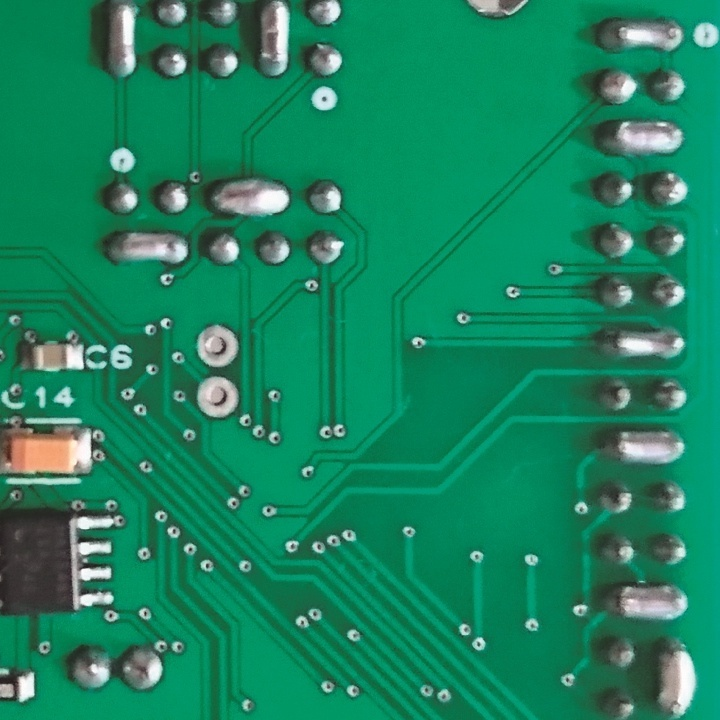F: (193, 373, 238, 423), (193, 322, 237, 369)
P: (102, 224, 189, 272), (207, 175, 296, 220), (601, 578, 692, 620), (597, 426, 689, 467), (653, 638, 699, 720), (595, 119, 687, 158), (596, 14, 684, 54), (101, 1, 143, 80), (252, 1, 294, 76), (596, 325, 689, 358)
